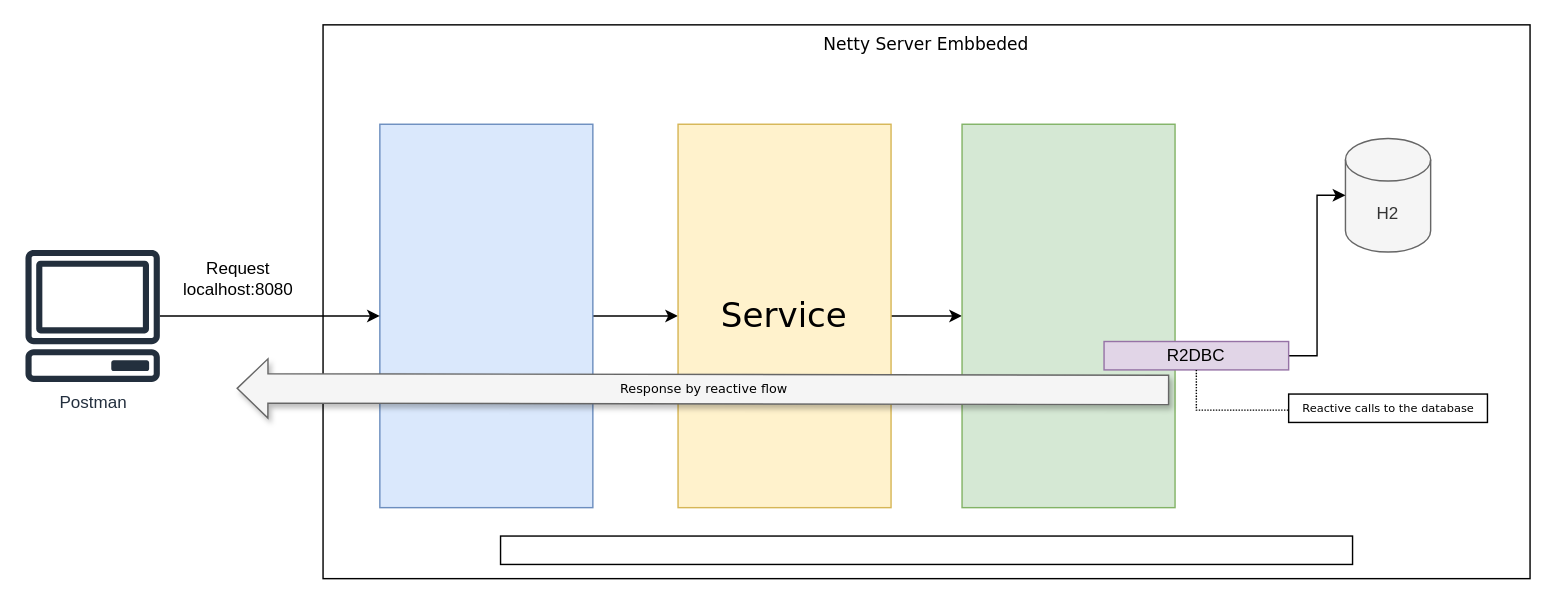
Image size: 1555x604. Some labels were removed from this diagram. Here are the shapes that lost their labels. From the top down, the centre of each, then its label:
At [485,315]: "Controller".
At [1068,315]: "Repository".
At [926,549]: "Reactive programming to handle data flows in Async form using RxJava.".
